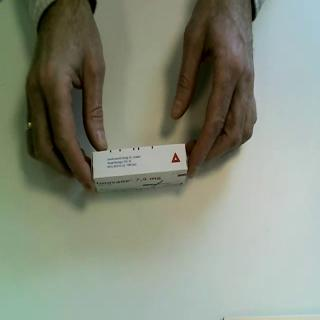imovane7-5mg: (92, 143, 190, 195)
